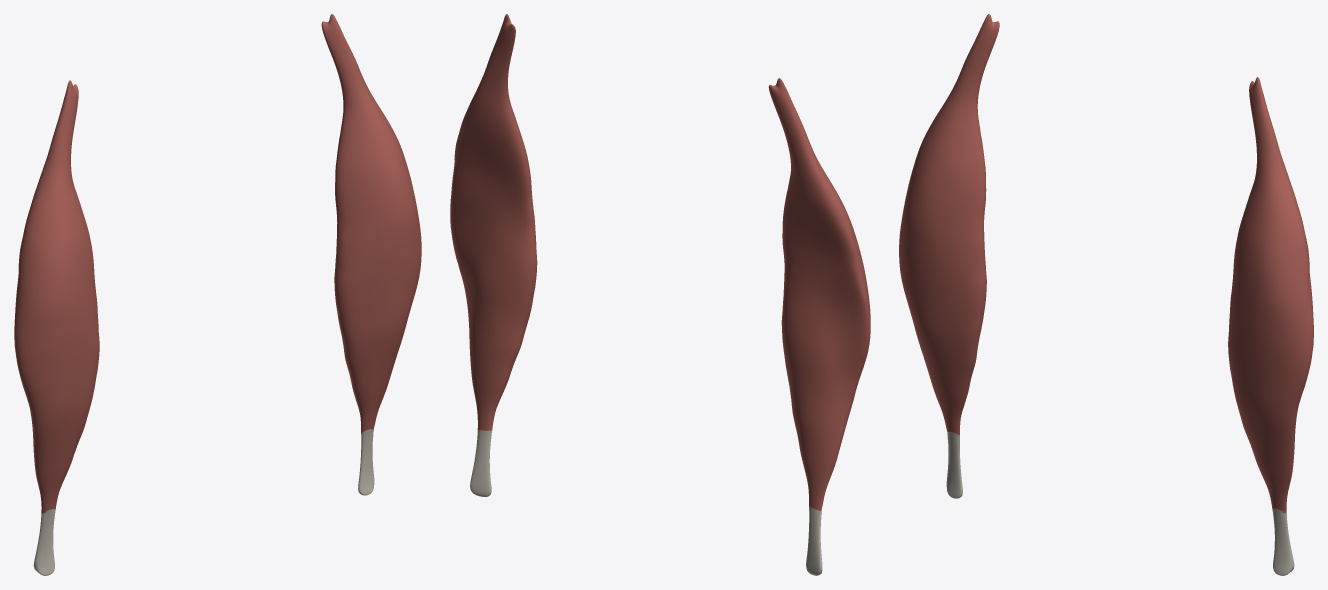
Rendered from adult_female.muscular.LOD0.glb.
The picture shows the model from 3 angles, left to right: view 1: azimuth 30°, elevation 25°; view 2: azimuth 150°, elevation 25°; view 3: azimuth 330°, elevation 25°; orthographic projection. The views are drawn at different scales.
Parts seen in each view (by area): view 1: ADULT.FEMALE.MUSCULAR.RECTUS_FEMORIS.L, ADULT.FEMALE.MUSCULAR.RECTUS_FEMORIS.R, ADULT.FEMALE.MUSCULAR.TENDON_OF_QUADRICEPS_FEMORIS.R, ADULT.FEMALE.MUSCULAR.TENDON_OF_QUADRICEPS_FEMORIS.L; view 2: ADULT.FEMALE.MUSCULAR.RECTUS_FEMORIS.R, ADULT.FEMALE.MUSCULAR.RECTUS_FEMORIS.L, ADULT.FEMALE.MUSCULAR.TENDON_OF_QUADRICEPS_FEMORIS.L, ADULT.FEMALE.MUSCULAR.TENDON_OF_QUADRICEPS_FEMORIS.R; view 3: ADULT.FEMALE.MUSCULAR.RECTUS_FEMORIS.R, ADULT.FEMALE.MUSCULAR.RECTUS_FEMORIS.L, ADULT.FEMALE.MUSCULAR.TENDON_OF_QUADRICEPS_FEMORIS.L, ADULT.FEMALE.MUSCULAR.TENDON_OF_QUADRICEPS_FEMORIS.R.
Part boxes in pixels (x1,y1,x2,y2): ADULT.FEMALE.MUSCULAR.RECTUS_FEMORIS.L: [321, 14, 421, 432]; ADULT.FEMALE.MUSCULAR.RECTUS_FEMORIS.R: [14, 80, 99, 513]; ADULT.FEMALE.MUSCULAR.TENDON_OF_QUADRICEPS_FEMORIS.R: [33, 509, 55, 575]; ADULT.FEMALE.MUSCULAR.TENDON_OF_QUADRICEPS_FEMORIS.L: [358, 429, 374, 495]; ADULT.FEMALE.MUSCULAR.RECTUS_FEMORIS.R: [768, 78, 870, 511]; ADULT.FEMALE.MUSCULAR.RECTUS_FEMORIS.L: [450, 14, 537, 430]; ADULT.FEMALE.MUSCULAR.TENDON_OF_QUADRICEPS_FEMORIS.L: [470, 430, 492, 496]; ADULT.FEMALE.MUSCULAR.TENDON_OF_QUADRICEPS_FEMORIS.R: [806, 506, 822, 575]; ADULT.FEMALE.MUSCULAR.RECTUS_FEMORIS.R: [899, 14, 999, 435]; ADULT.FEMALE.MUSCULAR.RECTUS_FEMORIS.L: [1228, 77, 1313, 513]; ADULT.FEMALE.MUSCULAR.TENDON_OF_QUADRICEPS_FEMORIS.L: [1272, 508, 1294, 575]; ADULT.FEMALE.MUSCULAR.TENDON_OF_QUADRICEPS_FEMORIS.R: [946, 431, 962, 498].
Bounding box in the file's own units: 0.3555 × 0.4034 × 0.0508.
